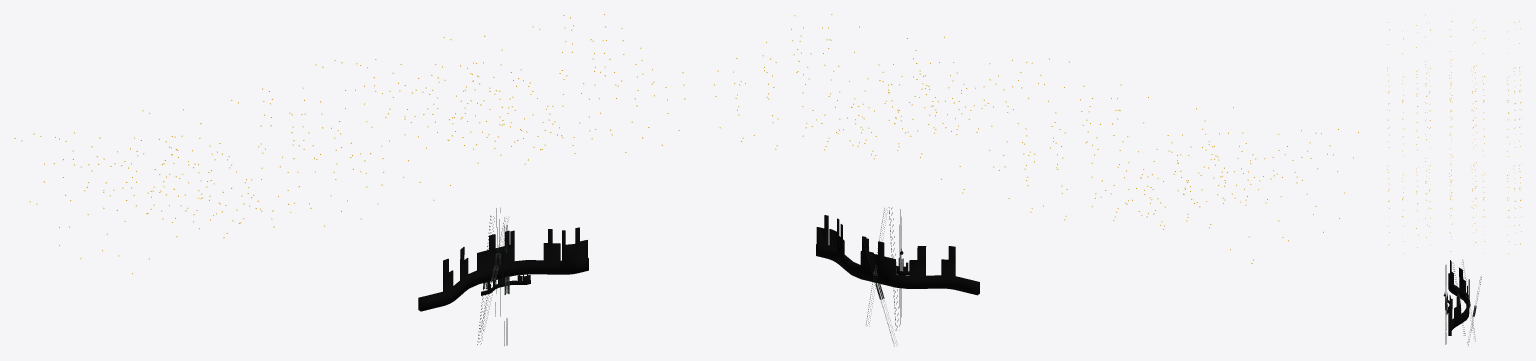
Rendered from env.glb.
3 renders of one model, left to right at view 1: azimuth 30°, elevation 25°; view 2: azimuth 150°, elevation 25°; view 3: azimuth 270°, elevation 25°, orthographic. The views are drawn at different scales.
Visible parts, largest first — view 1: Cube.001, Server 1, Cube.003, Cube.002; view 2: Cube.001, Server 1, Cube.003, Cube.002; view 3: Cube.001, Server 1, Cube.003, Cube.002.
Part boxes in pixels (left/top/right/bottom): Cube.001: left=418, top=227, right=588, bottom=311; Server 1: left=477, top=207, right=509, bottom=345; Cube.003: left=14, top=87, right=384, bottom=273; Cube.002: left=315, top=14, right=685, bottom=200; Cube.001: left=816, top=215, right=979, bottom=295; Server 1: left=862, top=207, right=903, bottom=346; Cube.003: left=1003, top=84, right=1358, bottom=263; Cube.002: left=714, top=14, right=1069, bottom=193; Cube.001: left=1448, top=260, right=1469, bottom=335; Server 1: left=1445, top=259, right=1481, bottom=344; Cube.003: left=1387, top=14, right=1521, bottom=156; Cube.002: left=1387, top=111, right=1521, bottom=254.
Size of the model in its own units: 2984 by 1330 by 862.
7 materials, 2 textured.
